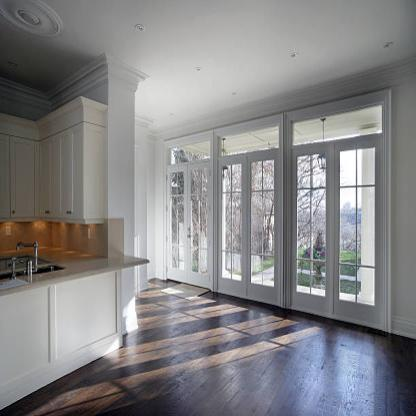Cabinet: (0, 96, 108, 225)
Window: (164, 88, 392, 332)
